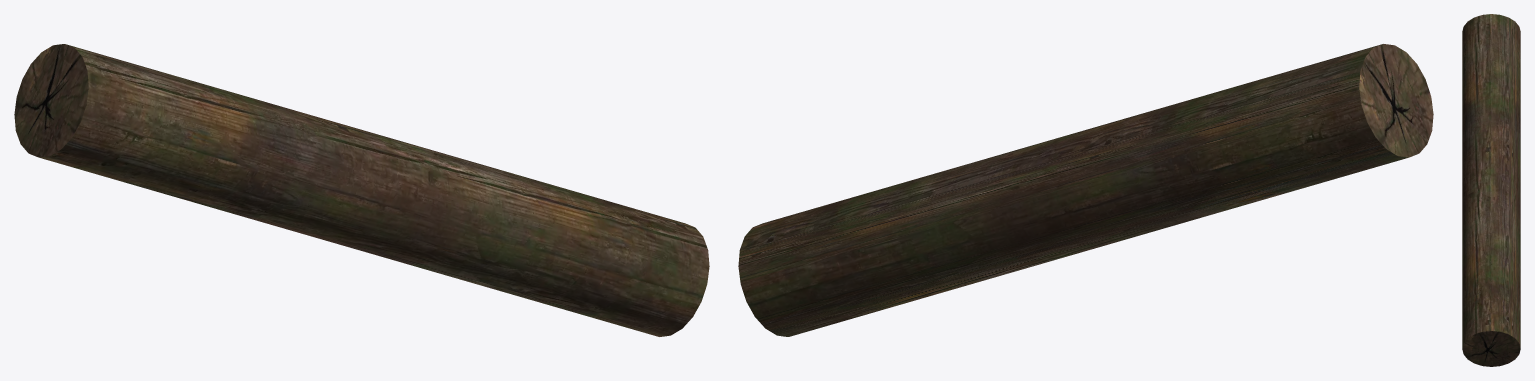
3 renders of one model, left to right at view 1: azimuth 30°, elevation 25°; view 2: azimuth 150°, elevation 25°; view 3: azimuth 270°, elevation 25°, orthographic. The views are drawn at different scales.
Parts seen in each view (by area): view 1: SM_BB_T1_Beam_Thick_Large_Shallow_LOD0; view 2: SM_BB_T1_Beam_Thick_Large_Shallow_LOD0; view 3: SM_BB_T1_Beam_Thick_Large_Shallow_LOD0.
Boxes of the visible parts, left/top/right/bottom form: SM_BB_T1_Beam_Thick_Large_Shallow_LOD0: left=14, top=44, right=709, bottom=336; SM_BB_T1_Beam_Thick_Large_Shallow_LOD0: left=738, top=44, right=1433, bottom=336; SM_BB_T1_Beam_Thick_Large_Shallow_LOD0: left=1462, top=14, right=1520, bottom=366.
Bounding box in the file's own units: 3.21 × 1.96 × 0.4877.
Materials: 1 (1 with a texture image).
